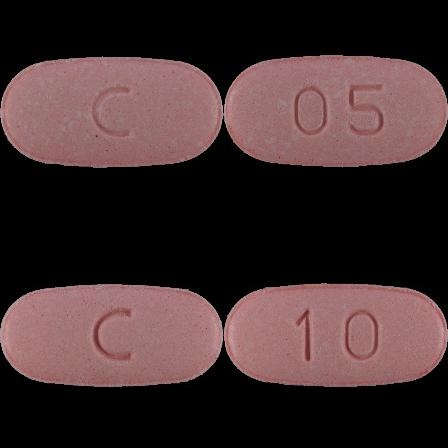16714-691: (0, 0, 224, 224)
